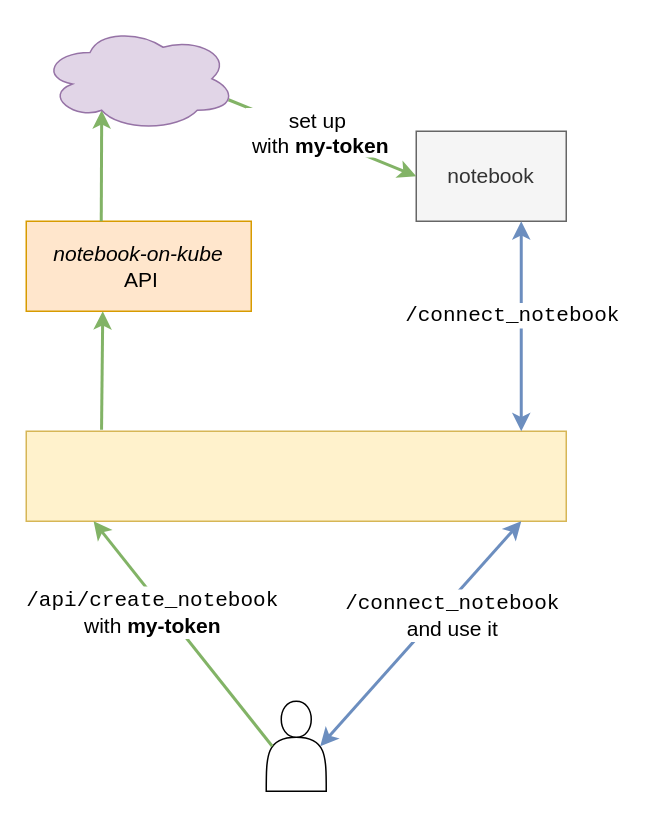
This 645x818 diagram has some shape labels left out. The box of each missing label's shape, as (x1, y1, x2, y2) in pixels:
Kubernetes API: (40, 25, 236, 131)
notebook-on-kube Ingress-NGINX: (25, 430, 566, 521)
